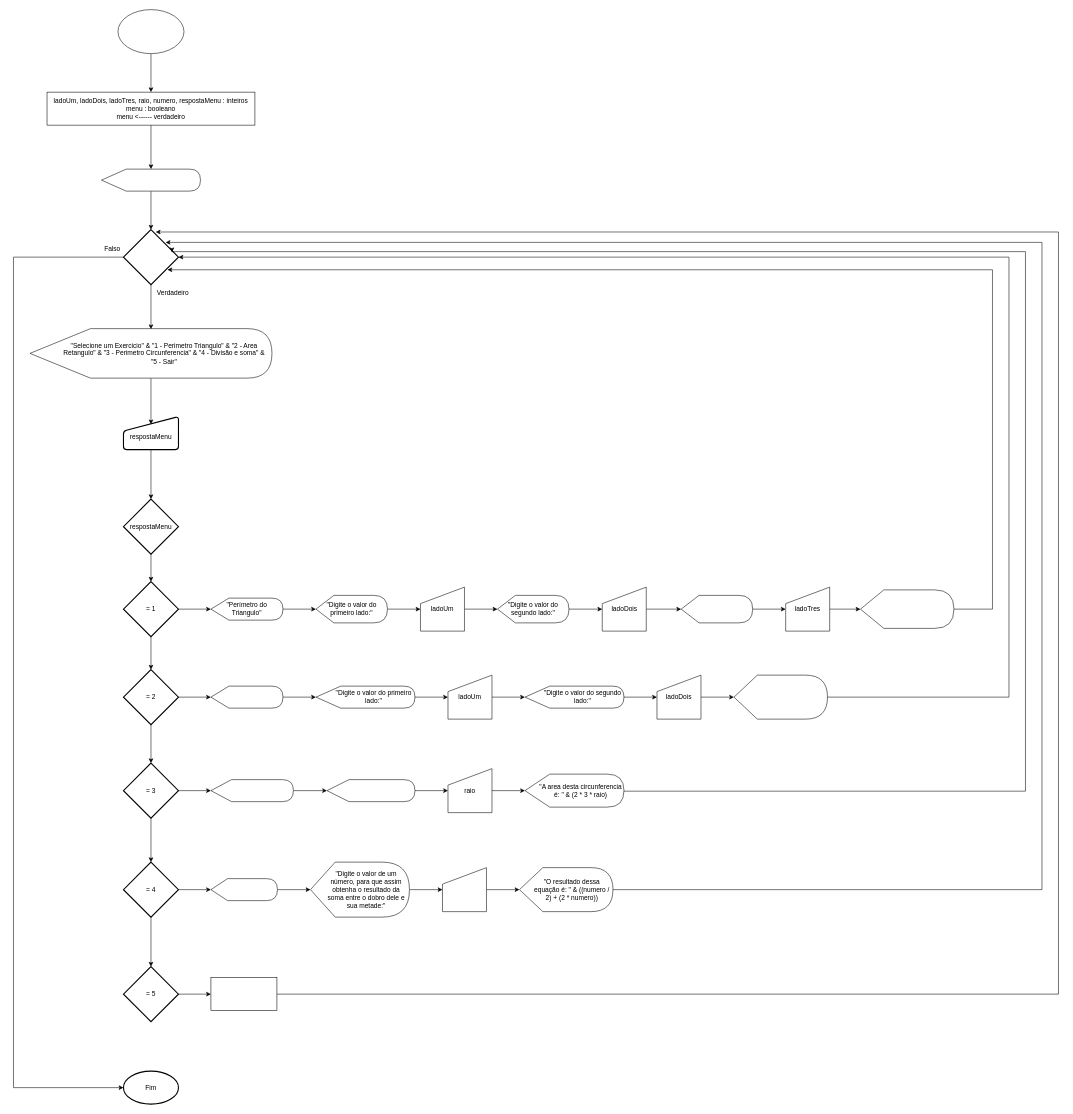
This 1073x1114 diagram has some shape labels left out. Each missing label, with the centre of its shape:
"A area deste retangulo é: " & (ladoUm * ladoDois): pixel 780 697
"Area do Retangulo": pixel 246 697
"Digite o valor do raio:": pixel 370 790
"Digite o valor do terceiro lado:": pixel 717 609
"Divisão e soma": pixel 243 889
"O perimetro deste triangulo é: " & (ladoUm + ladoDois + ladoTres): pixel 907 608
"Perimetro de uma Circunferencia": pixel 251 790
"Unidade 01 - EX01": pixel 150 180
Início: pixel 150 31
menu: pixel 151 257
menu = falso: pixel 243 994
numero: pixel 464 889
